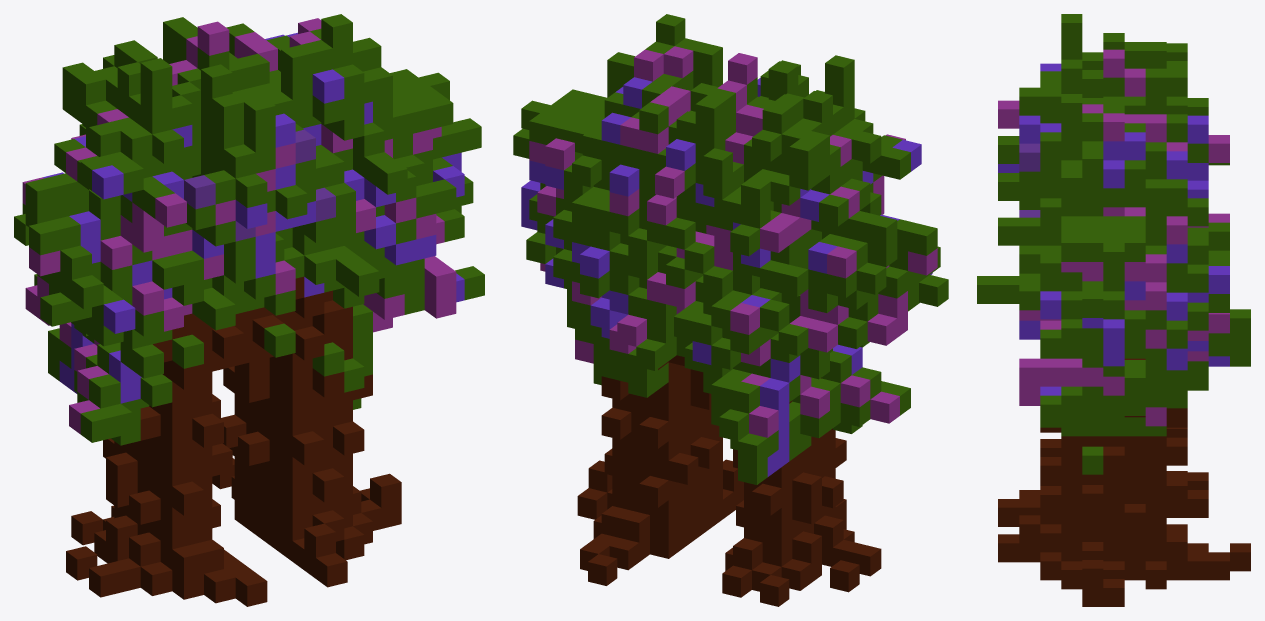
The model's file is Maria_Jose_Castaño_Celis_fase_3.obj.
3 renders of one model, left to right at view 1: azimuth 30°, elevation 25°; view 2: azimuth 150°, elevation 25°; view 3: azimuth 270°, elevation 25°, orthographic. The views are drawn at different scales.
Parts seen in each view (by area): view 1: Maria_Jose_Castaño_Celis_fase_3; view 2: Maria_Jose_Castaño_Celis_fase_3; view 3: Maria_Jose_Castaño_Celis_fase_3.
Boxes of the visible parts, box(x1,y1,x2,y2) form: Maria_Jose_Castaño_Celis_fase_3: box(14, 14, 484, 606); Maria_Jose_Castaño_Celis_fase_3: box(513, 14, 948, 606); Maria_Jose_Castaño_Celis_fase_3: box(977, 14, 1250, 606).
Bounding box in the file's own units: 22 × 25 × 13.
1 material, 1 textured.
